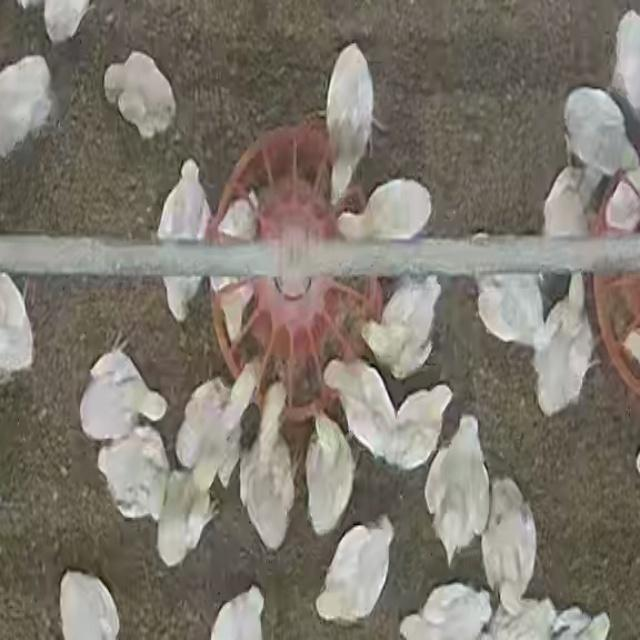chicken: (529, 163, 596, 311), (178, 365, 254, 494), (428, 416, 490, 566), (239, 385, 294, 550), (155, 163, 211, 322), (322, 43, 376, 200), (80, 344, 164, 442), (535, 275, 592, 418), (472, 233, 544, 344), (317, 520, 394, 623), (213, 184, 263, 337), (369, 276, 442, 378), (480, 480, 534, 611), (324, 359, 397, 455), (102, 48, 177, 139), (96, 426, 168, 520), (562, 89, 640, 175), (379, 382, 451, 471), (304, 412, 354, 538), (338, 179, 433, 243), (155, 467, 213, 565), (0, 54, 54, 158), (393, 585, 489, 640), (58, 571, 122, 639), (205, 583, 266, 640), (2, 270, 34, 376), (42, 0, 90, 43)
